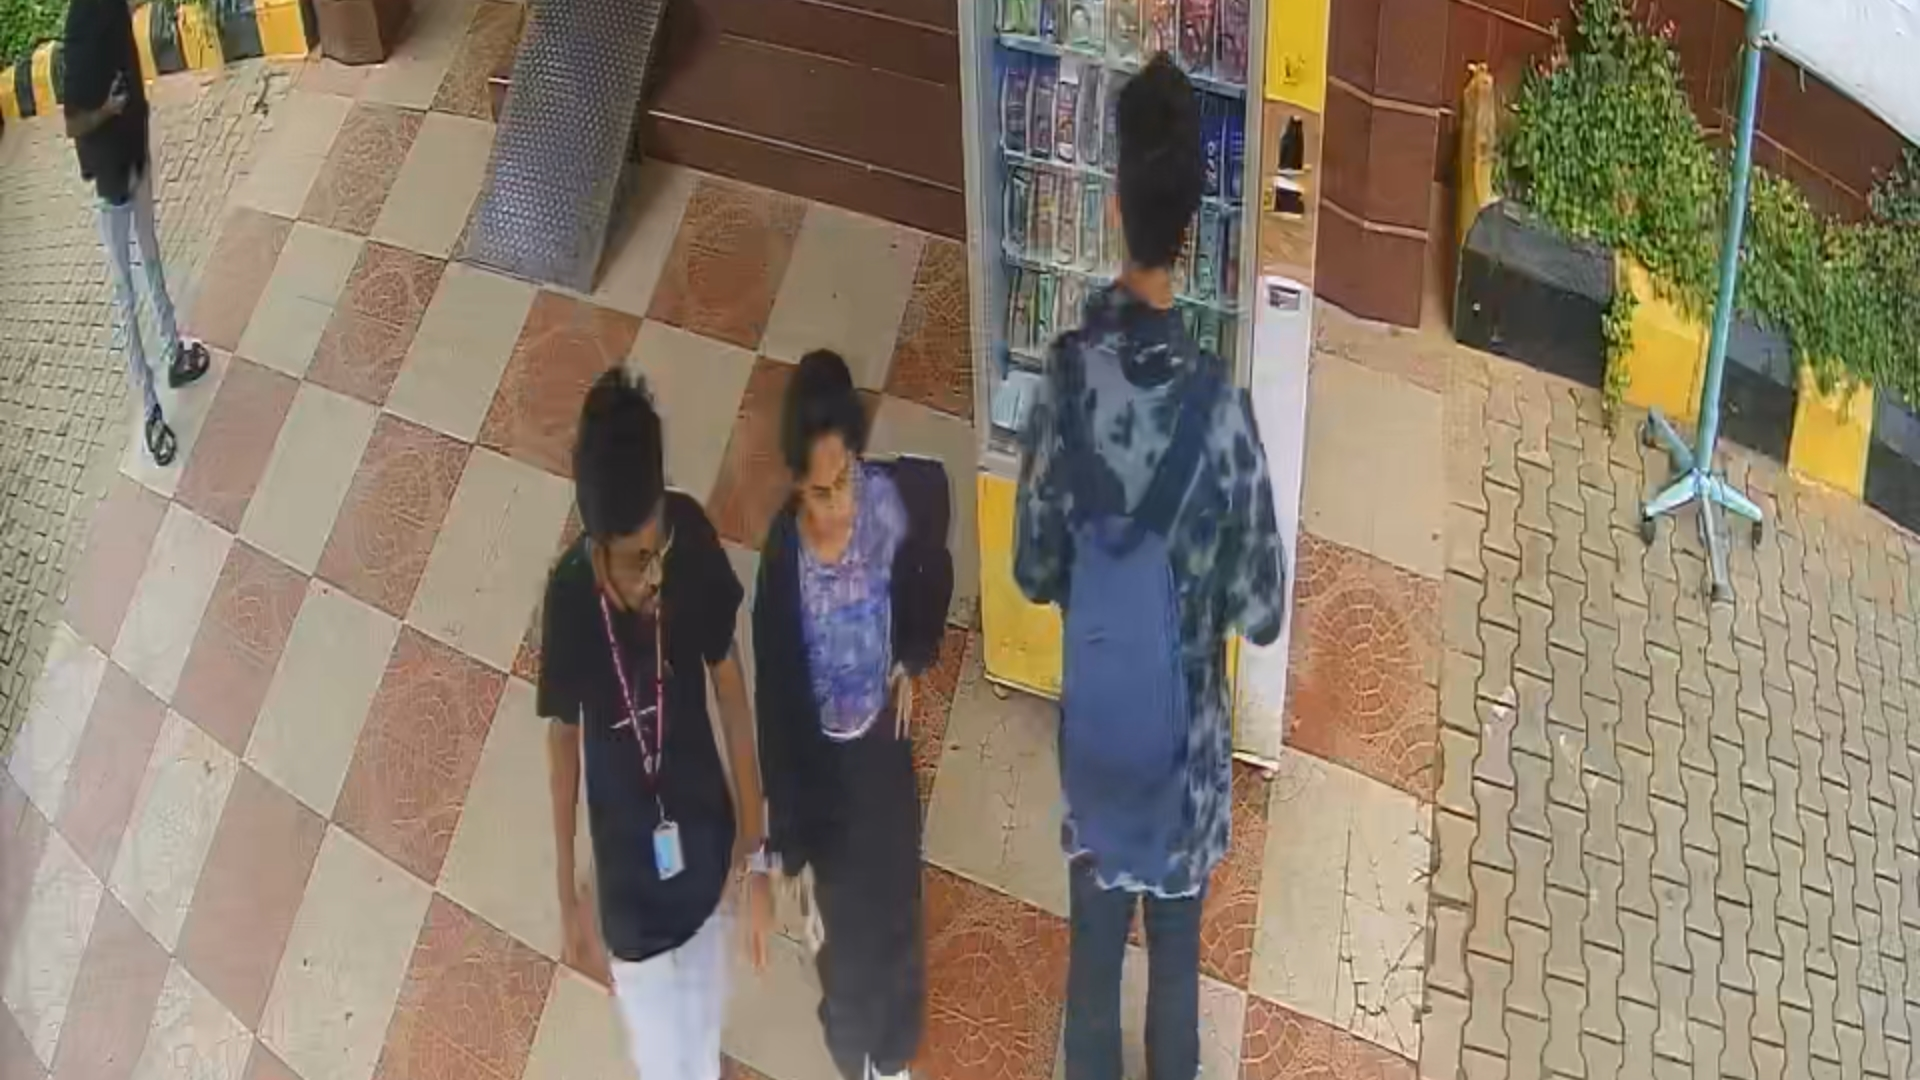intruder: (752, 353, 982, 1056)
not intruder: (545, 368, 752, 996)
